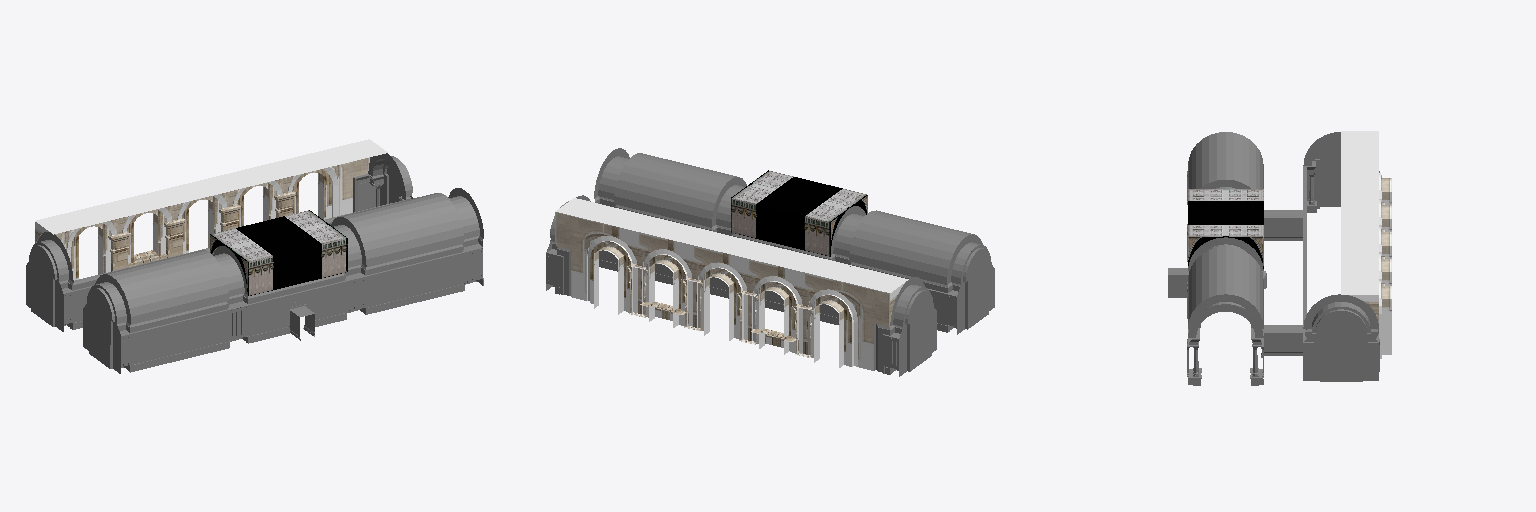
3 views of the same model, side by side, from view 1: azimuth 30°, elevation 25°; view 2: azimuth 150°, elevation 25°; view 3: azimuth 270°, elevation 25° (orthographic).
Parts seen in each view (by area): view 1: Gang_Dach_Ecke004, Object051, Object052, Gang_Wand_Standart088, Gang_Wand_Standart086, Box014, WindowWalk_Endst�ck005, Gang_Cap_Bogen007, Gang_Cap_Bogen008, Box024, Box023, Box022 (+14 smaller); view 2: Gang_Dach_Ecke004, Object051, Object052, WindowWalk_Endst�ck004, Box025, Box022, Box024, Box023, WindowWalk_Endst�ck005, Gang_Cap_Bogen007, Gang_Cap_Bogen008, Box021 (+8 smaller); view 3: Gang_Cap_Bogen009, Gang_Dach_Ecke004, Object051, Object052, WindowWalk_Endst�ck005, Gang_Endst�ck082, Gang_Cap_Bogen008, Box023, Box024, Box025, Box022, Gang_Endst�ck085 (+9 smaller).
Boxes of the visible parts, x1=… form: Gang_Dach_Ecke004: x1=210, y1=210, x2=347, y2=295; Object051: x1=340, y1=193, x2=463, y2=266; Object052: x1=106, y1=250, x2=228, y2=324; Gang_Wand_Standart088: x1=130, y1=302, x2=229, y2=371; Gang_Wand_Standart086: x1=365, y1=244, x2=464, y2=314; Box014: x1=248, y1=273, x2=347, y2=342; WindowWalk_Endst�ck005: x1=312, y1=139, x2=387, y2=219; Gang_Cap_Bogen007: x1=83, y1=285, x2=120, y2=373; Gang_Cap_Bogen008: x1=26, y1=242, x2=63, y2=331; Box024: x1=91, y1=194, x2=164, y2=274; Box023: x1=146, y1=180, x2=220, y2=255; Box022: x1=201, y1=167, x2=274, y2=247; Gang_Dach_Ecke004: x1=731, y1=170, x2=867, y2=256; Object051: x1=614, y1=153, x2=736, y2=227; Object052: x1=849, y1=210, x2=971, y2=284; WindowWalk_Endst�ck004: x1=827, y1=266, x2=908, y2=370; Box025: x1=606, y1=212, x2=685, y2=321; Box022: x1=662, y1=225, x2=741, y2=335; Box024: x1=772, y1=252, x2=851, y2=362; Box023: x1=717, y1=239, x2=795, y2=348; WindowWalk_Endst�ck005: x1=555, y1=198, x2=630, y2=308; Gang_Cap_Bogen007: x1=957, y1=245, x2=994, y2=334; Gang_Cap_Bogen008: x1=899, y1=287, x2=936, y2=376; Box021: x1=599, y1=250, x2=838, y2=324; Gang_Cap_Bogen009: x1=1303, y1=307, x2=1378, y2=381; Gang_Dach_Ecke004: x1=1188, y1=189, x2=1263, y2=268; Object051: x1=1188, y1=247, x2=1263, y2=325; Object052: x1=1188, y1=132, x2=1263, y2=188; WindowWalk_Endst�ck005: x1=1341, y1=267, x2=1391, y2=358; Gang_Endst�ck082: x1=1188, y1=294, x2=1263, y2=385; Gang_Cap_Bogen008: x1=1307, y1=139, x2=1340, y2=208; Box023: x1=1341, y1=186, x2=1391, y2=233; Box024: x1=1341, y1=159, x2=1391, y2=206; Box025: x1=1341, y1=240, x2=1391, y2=286; Box022: x1=1341, y1=213, x2=1391, y2=259; Gang_Endst�ck085: x1=1303, y1=294, x2=1378, y2=342.
Bounding box in the file's own units: 45.71 × 9.75 × 24.16.
7 materials, 2 textured.